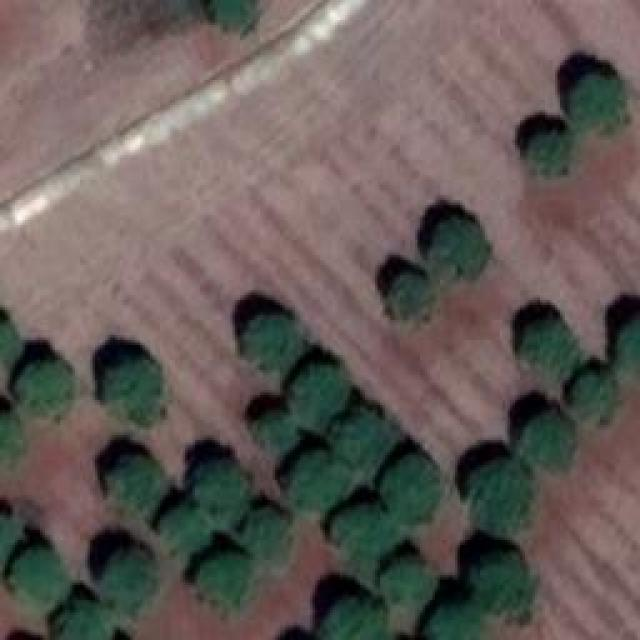Tree: (330, 510, 403, 585), (470, 460, 533, 533), (335, 413, 403, 478), (292, 455, 360, 513), (102, 360, 160, 425), (383, 455, 438, 523), (475, 555, 530, 620), (10, 550, 68, 610), (293, 368, 348, 431), (17, 360, 75, 418), (243, 313, 303, 368), (108, 457, 163, 515), (430, 220, 485, 278), (198, 463, 248, 526), (103, 553, 153, 613), (523, 323, 583, 373), (523, 410, 573, 470), (575, 77, 625, 135), (320, 600, 388, 640), (198, 555, 251, 603), (380, 560, 430, 610), (243, 510, 286, 563), (162, 510, 210, 553), (60, 602, 113, 640), (575, 375, 618, 420), (393, 275, 433, 320), (253, 417, 298, 455), (435, 607, 485, 640), (530, 135, 570, 175), (213, 0, 256, 35), (0, 412, 28, 460), (617, 317, 640, 374), (0, 322, 22, 359)
